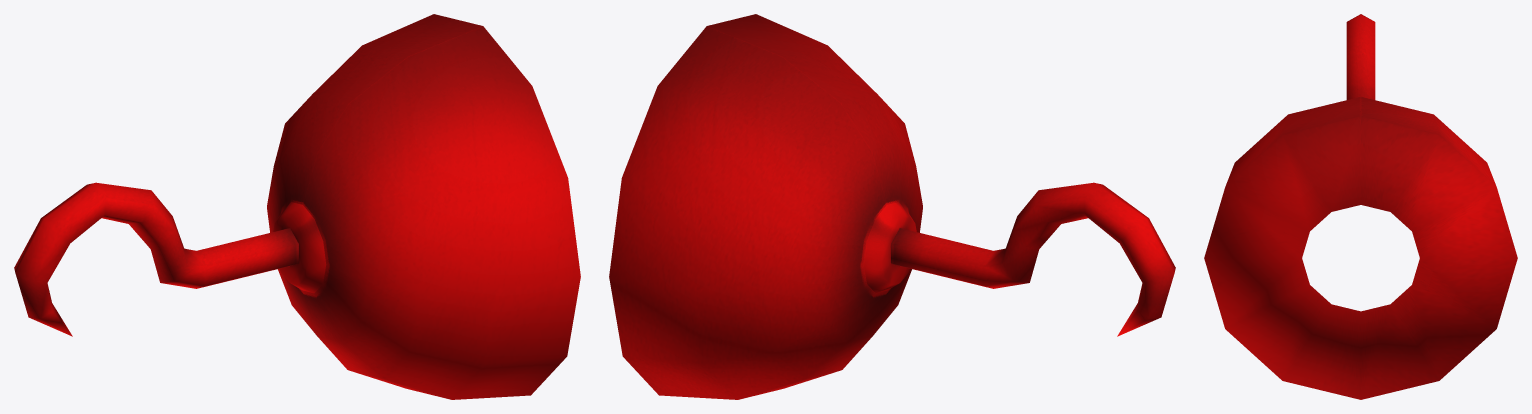
The model's file is M_HookA.glb.
3 renders of one model, left to right at view 1: azimuth 30°, elevation 25°; view 2: azimuth 150°, elevation 25°; view 3: azimuth 270°, elevation 25°, orthographic. The views are drawn at different scales.
Parts seen in each view (by area): view 1: SM_Hook; view 2: SM_Hook; view 3: SM_Hook.
Part boxes in pixels (x1,y1,x2,y2): SM_Hook: (14,14,580,399); SM_Hook: (609,14,1175,399); SM_Hook: (1204,14,1517,399).
Bounding box in the file's own units: 0.417 × 0.304 × 0.304.
1 material, 1 textured.
